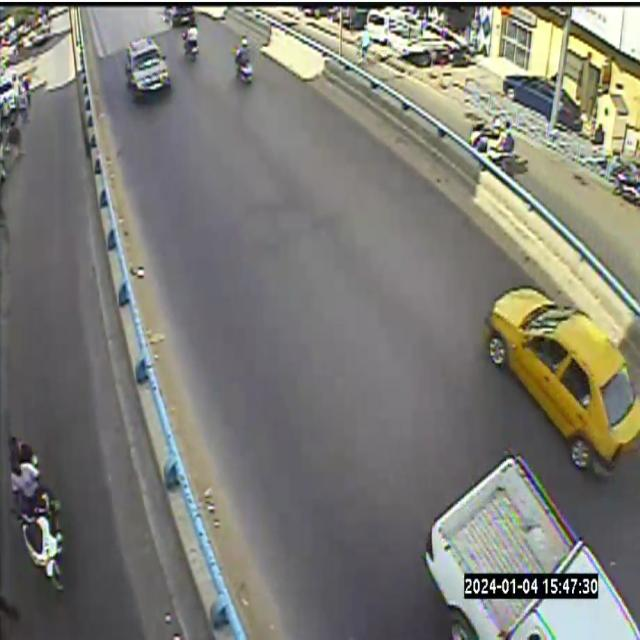car: (424, 455, 639, 639), (483, 278, 639, 469), (486, 287, 639, 473)
